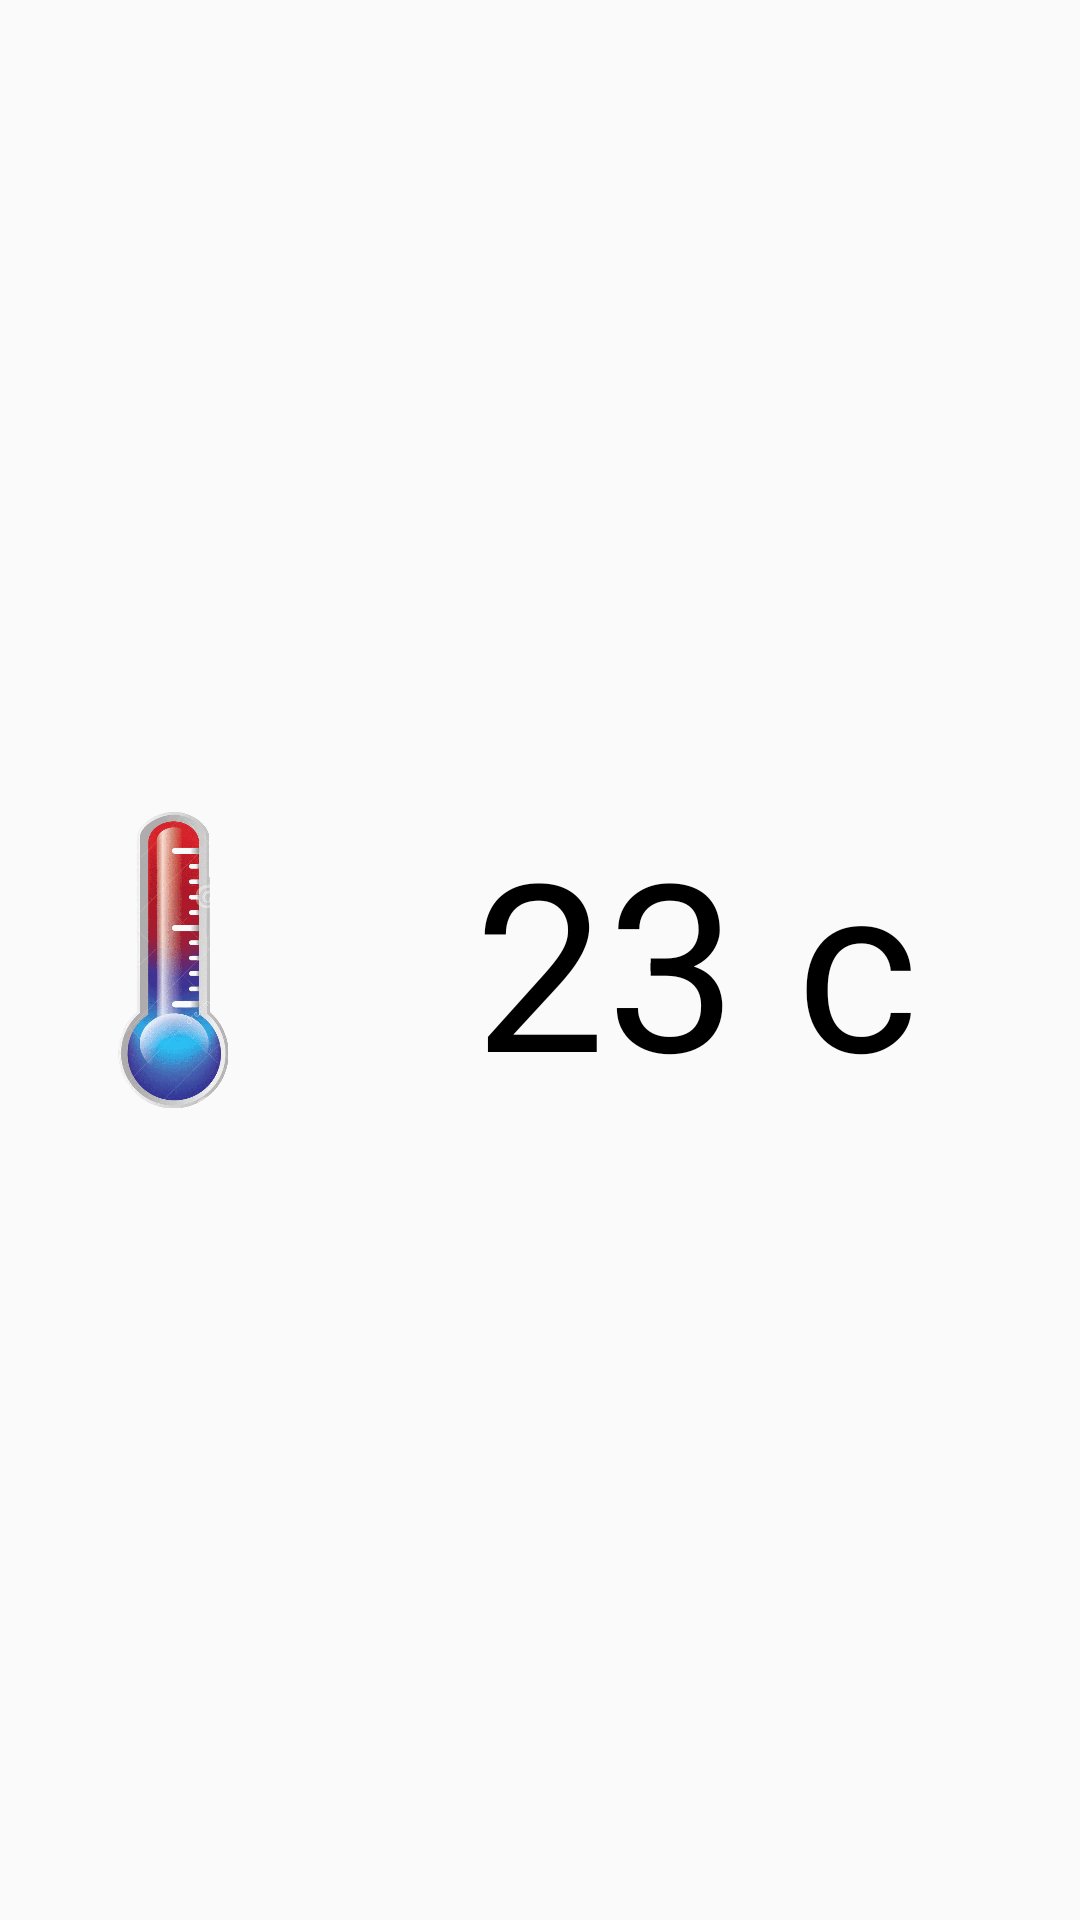

Named icons in this screenshot (1080 x 1920) and their centers, (x=x, y=y):
temprature: (x=174, y=960)
